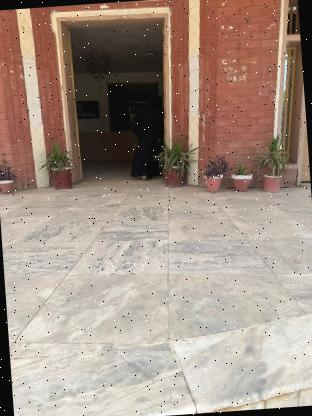door: (48, 3, 189, 190)
